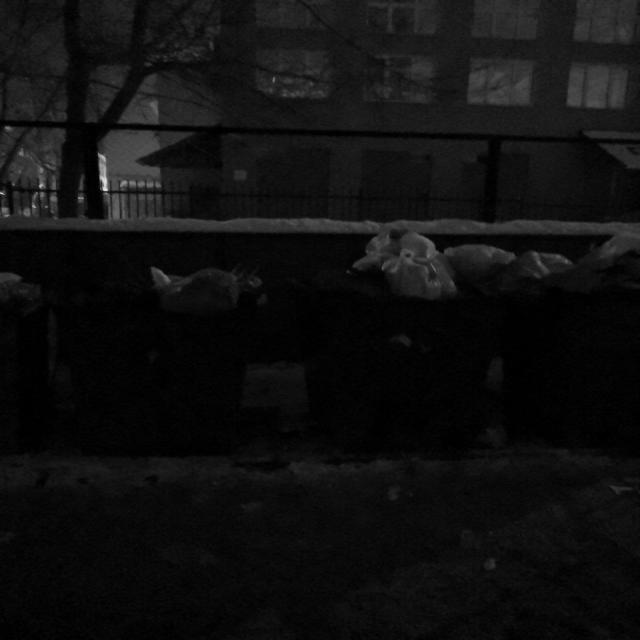Trashcan: (278, 223, 520, 468), (41, 240, 281, 451), (505, 202, 640, 479)
